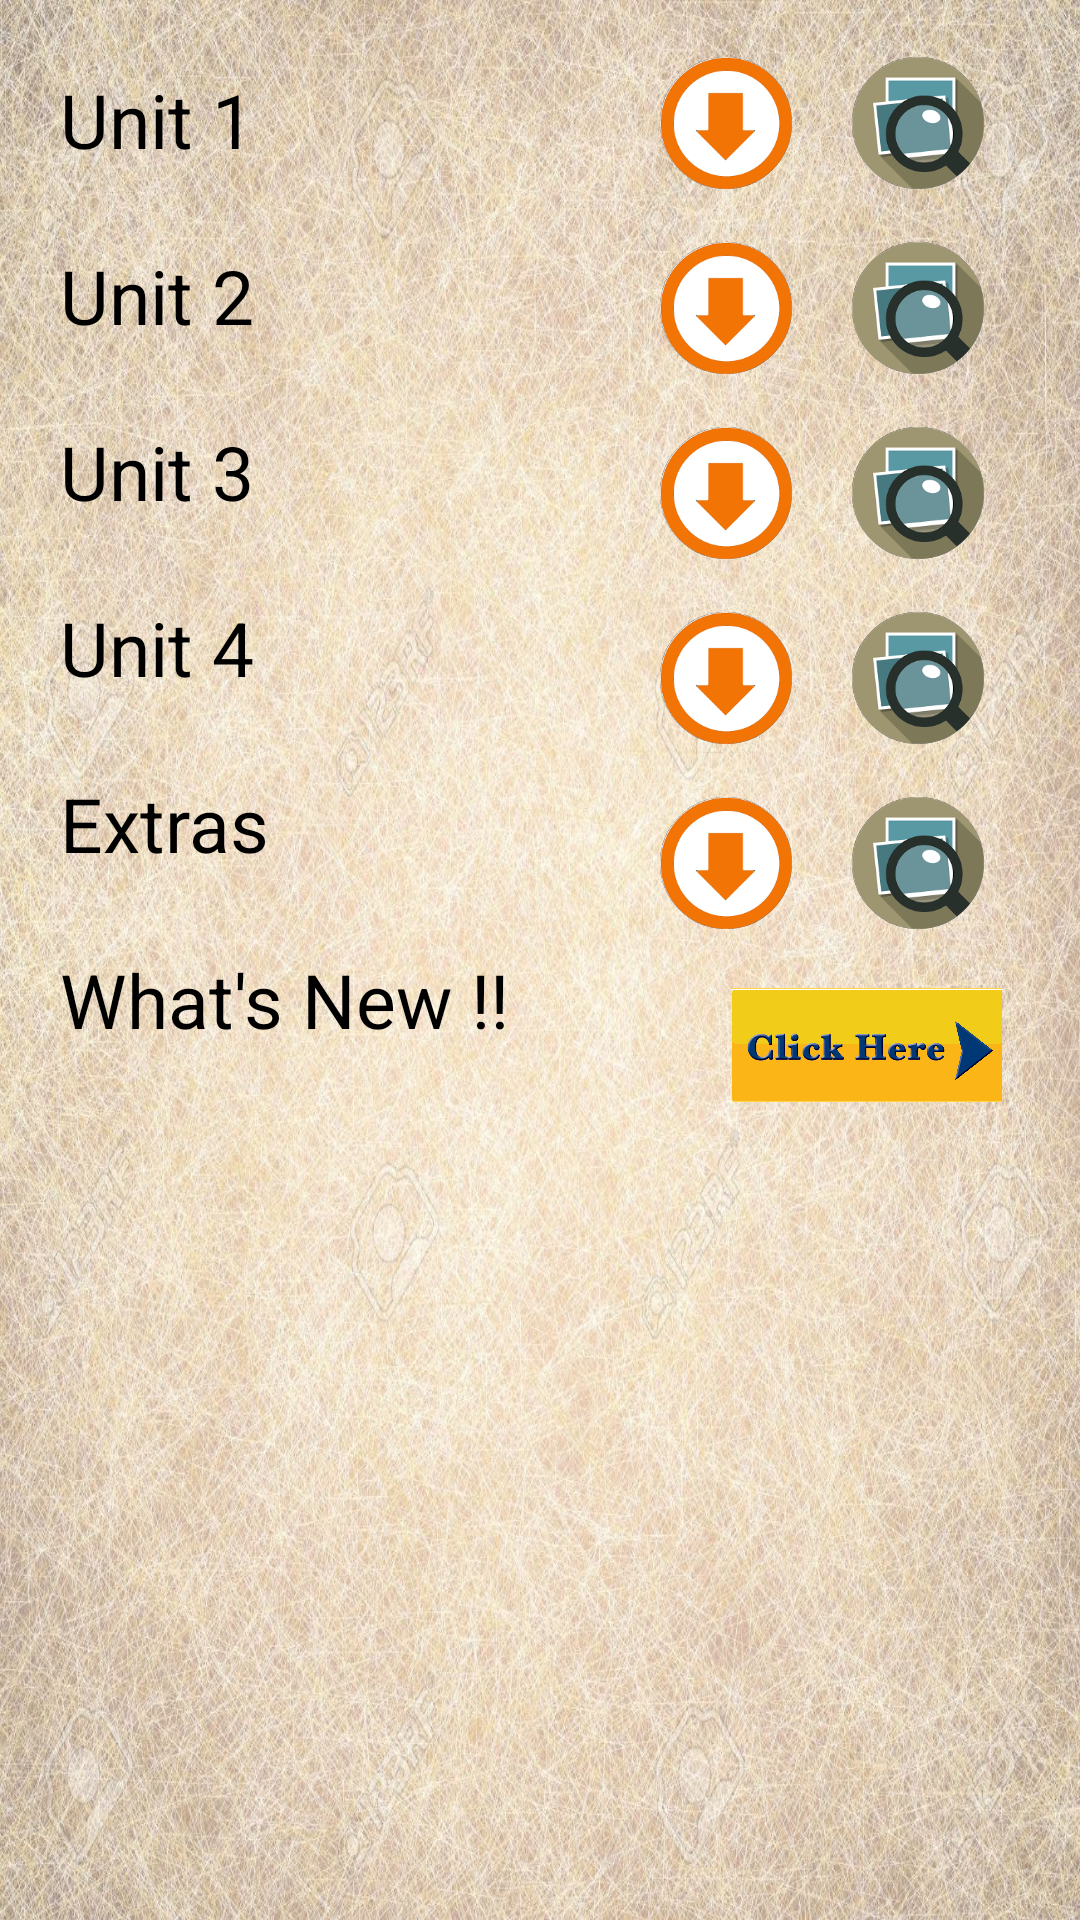

Where to tap for icons on this 1080px×1920px app screen, as (x=x, y=y):
download: (x=726, y=123), (x=726, y=308), (x=726, y=493), (x=726, y=678), (x=726, y=863)
